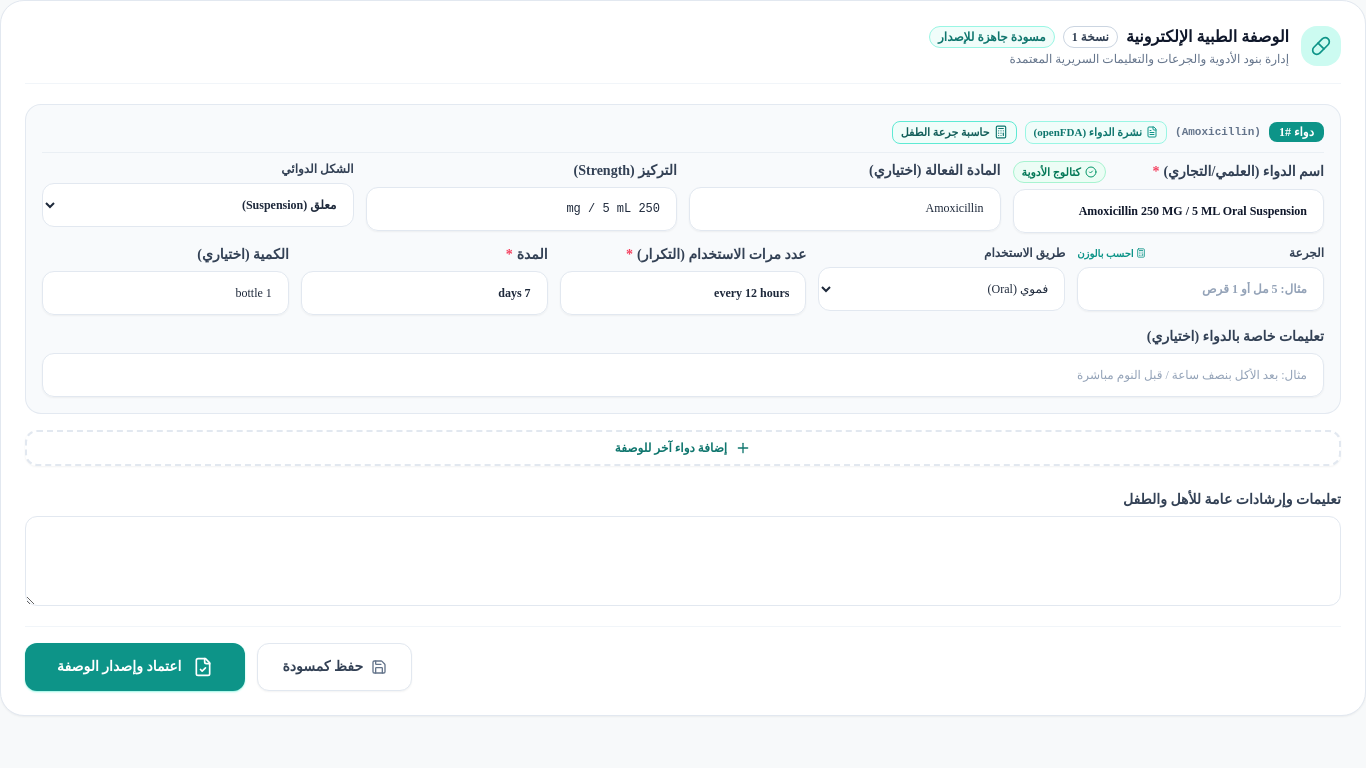
Test: Safe Pediatric Dosage Calculator - Phase 1 (حاسبة جرعات الأطفال الآمنة) › 8. Clinical Review Workflow & Rule Approval Dispatching (مسار مراجعة واعتماد القواعد السريرية) › 4. Clicking calculate on item with rejected rule blocks calculator and shows clear rejection message
Click the button with test id "pediatric-calculator-btn-0". click: (954, 132)
box: [892, 121, 1017, 144]
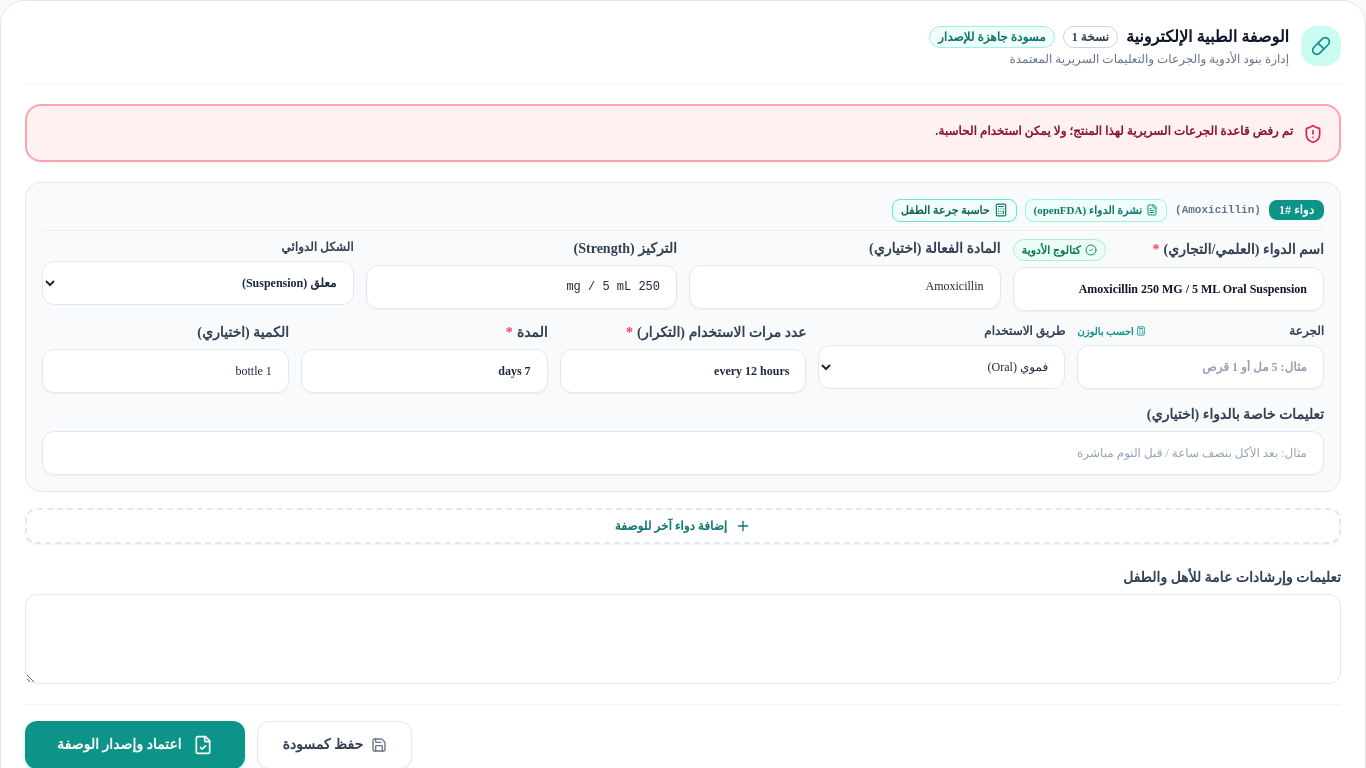
Now the text "تم رفض قاعدة الجرعات السريرية لهذا المنتج؛ ولا يمكن استخدام الحاسبة" is shown, box [935, 124, 1293, 138]
